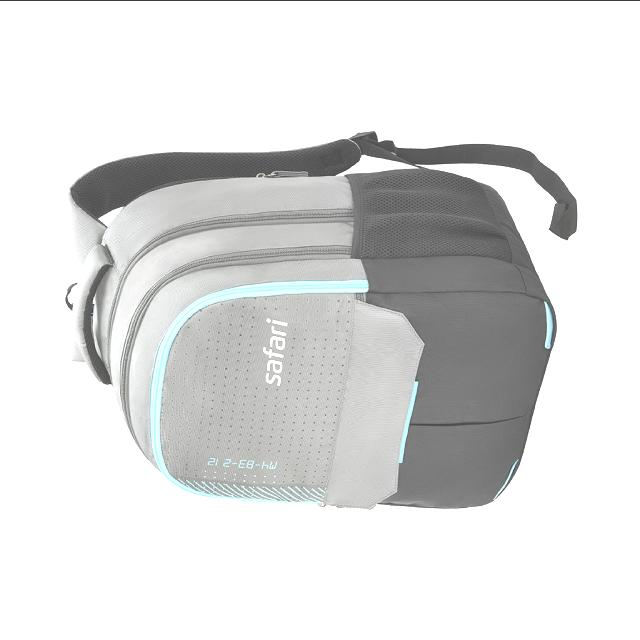backpack: (65, 131, 578, 511)
